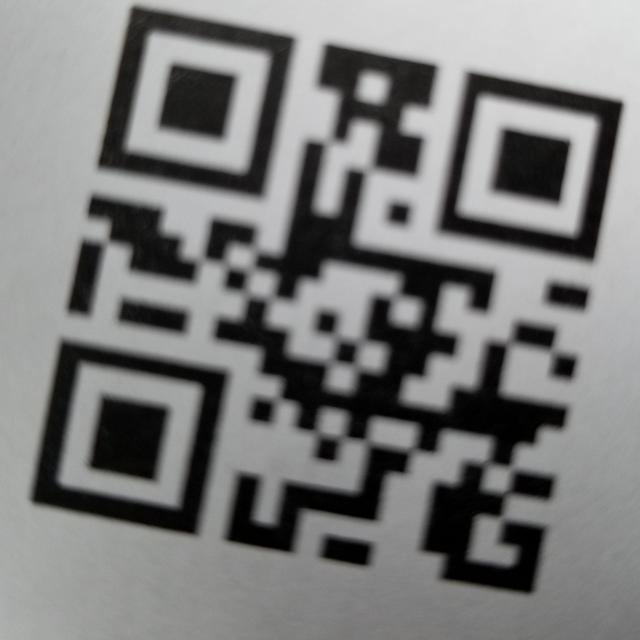QR_CODE: (24, 4, 626, 597)
